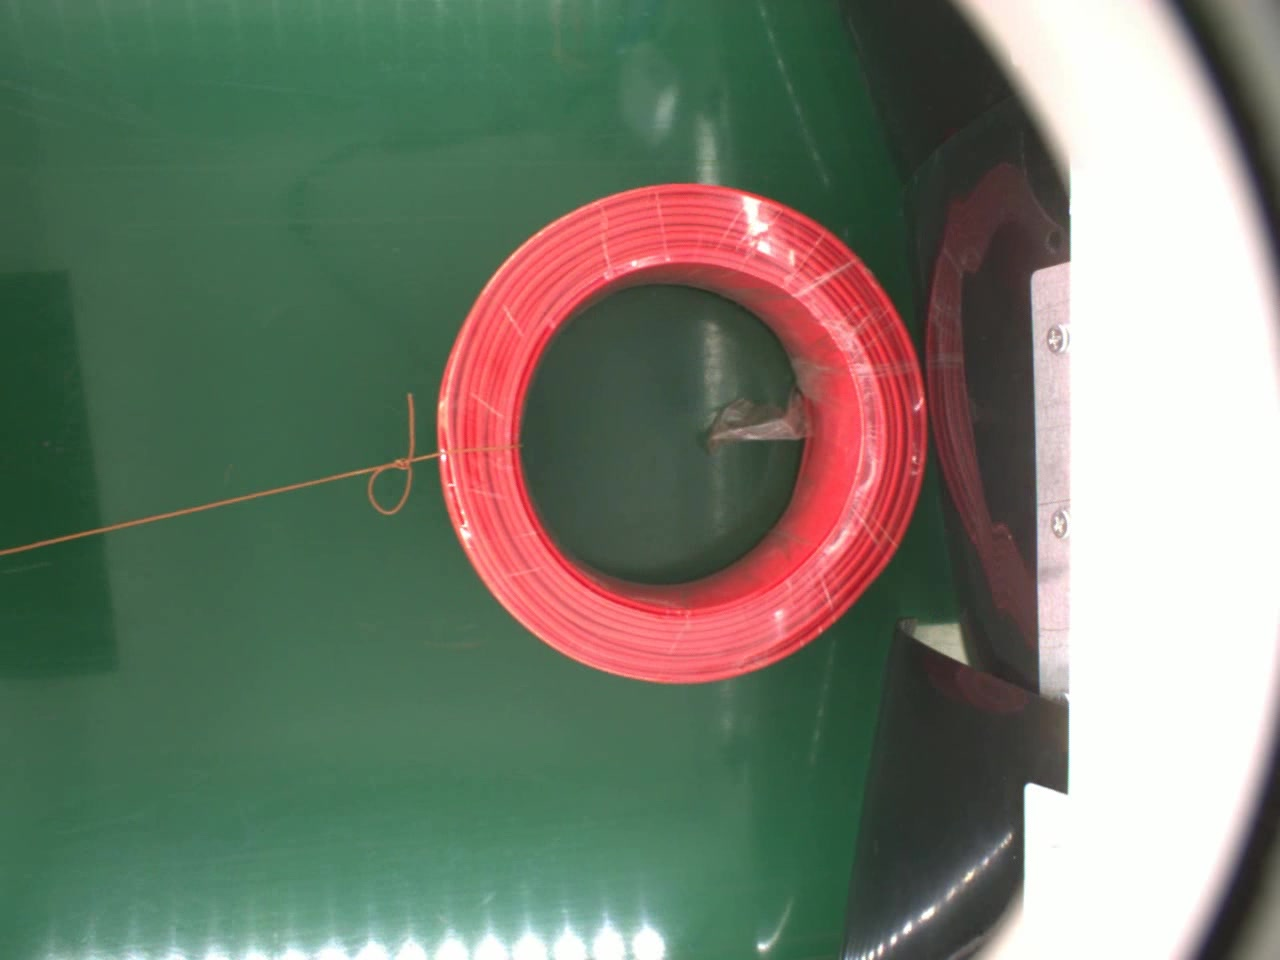red: (433, 181, 928, 685)
